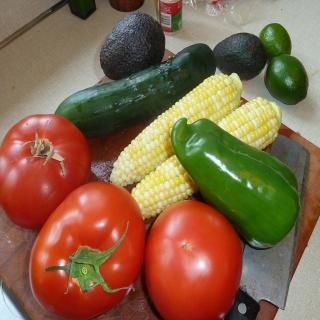tomato: (27, 178, 148, 320), (144, 199, 243, 320), (0, 113, 90, 232)
